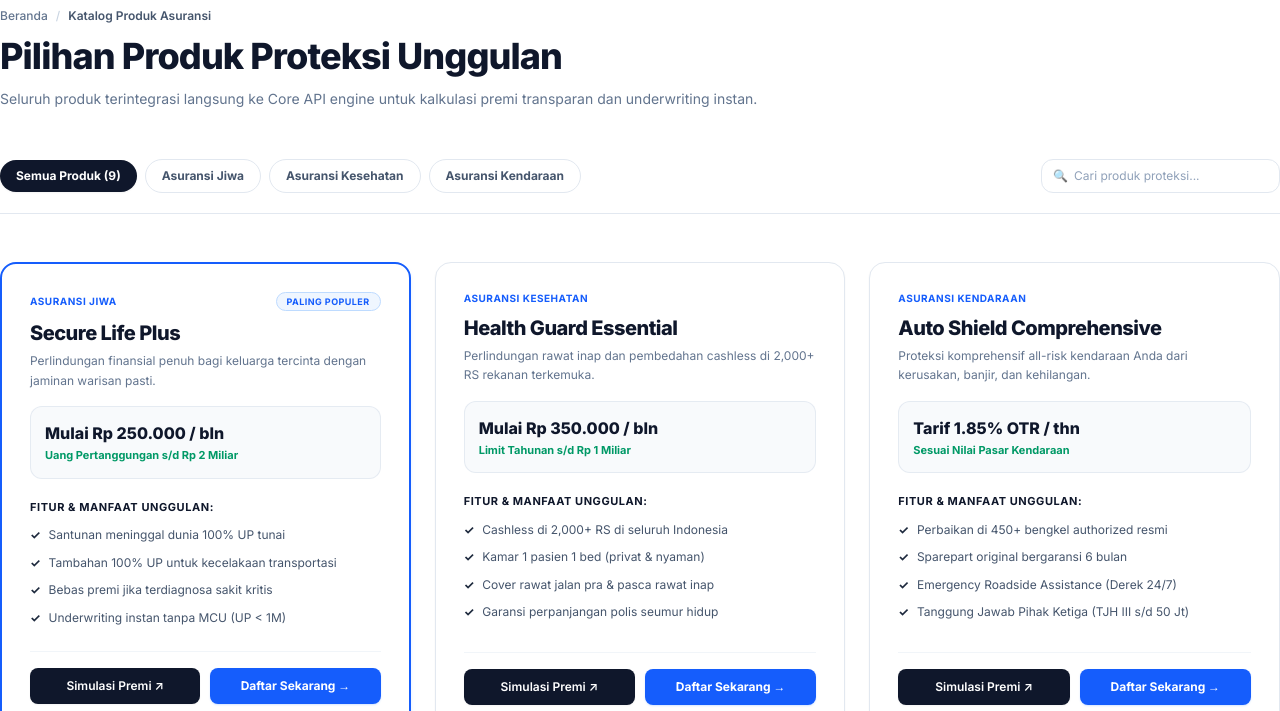
Test case: ProductsPage & ProductCatalogWorkbench › searches products with search query and handles empty search state
Type "Kendaraan" into the field named "Cari produk asuransi" at (1160, 176), box x1=1041 y1=159 x2=1279 y2=193
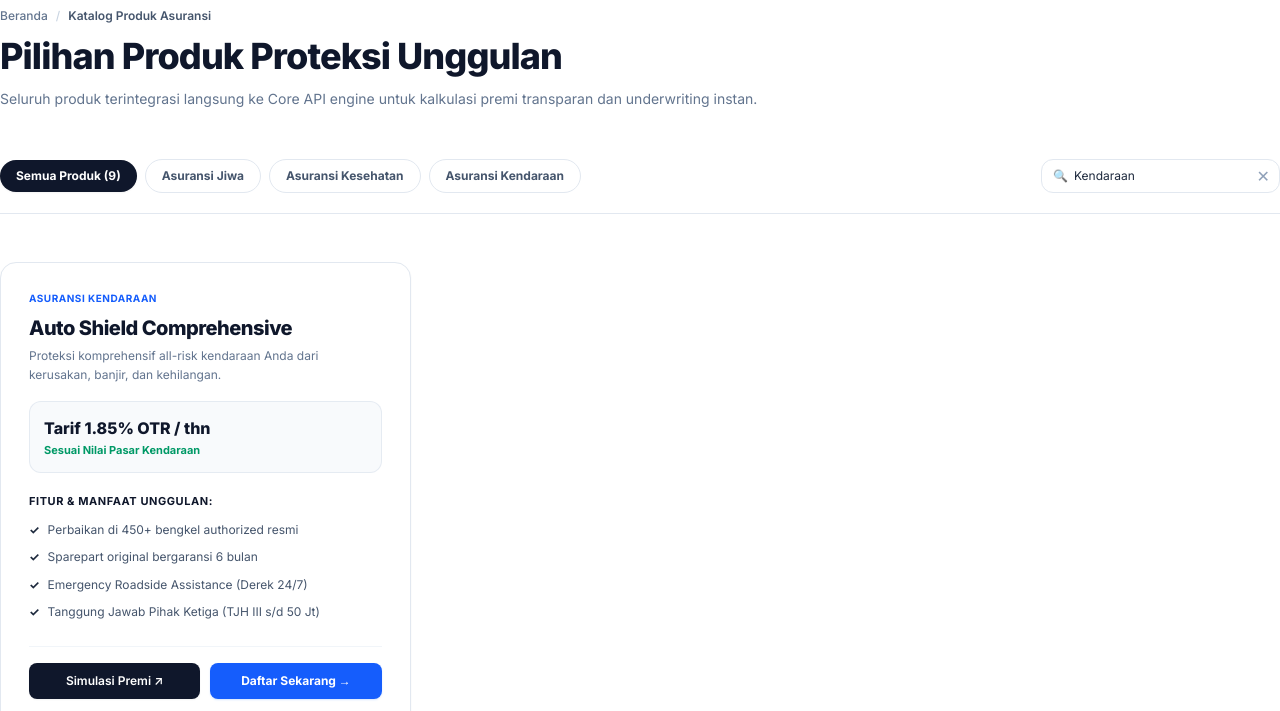
Expected: the heading "Auto Shield Comprehensive" is shown, x1=29 y1=316 x2=292 y2=340
Expected: the heading "Health Guard Essential" is gone
// Clear search with X button
Click the button named "Hapus pencarian" at (1268, 176), box x1=1257 y1=159 x2=1279 y2=193
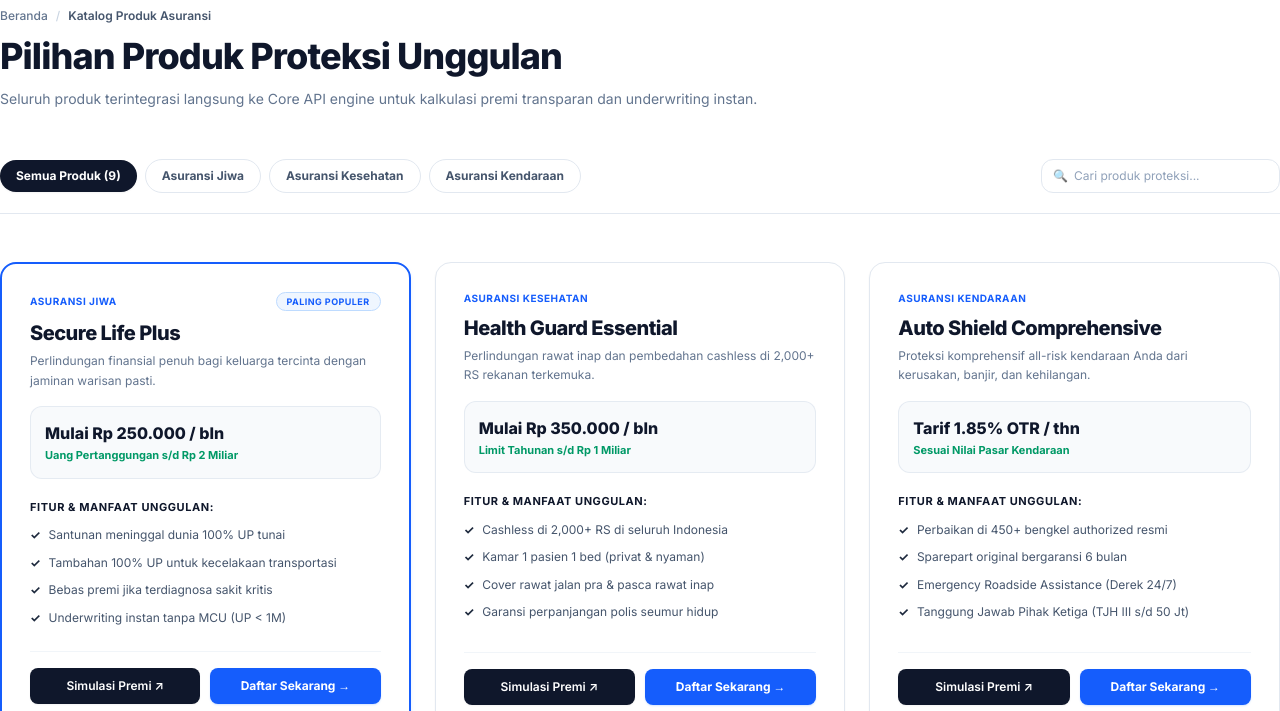
Expected: the heading "Health Guard Essential" is shown, x1=464 y1=316 x2=678 y2=340
// Search unmatched string
Type "NONEXISTENT_QUERY_XYZ" into the field named "Cari produk asuransi" at (1160, 176), box x1=1041 y1=159 x2=1279 y2=193
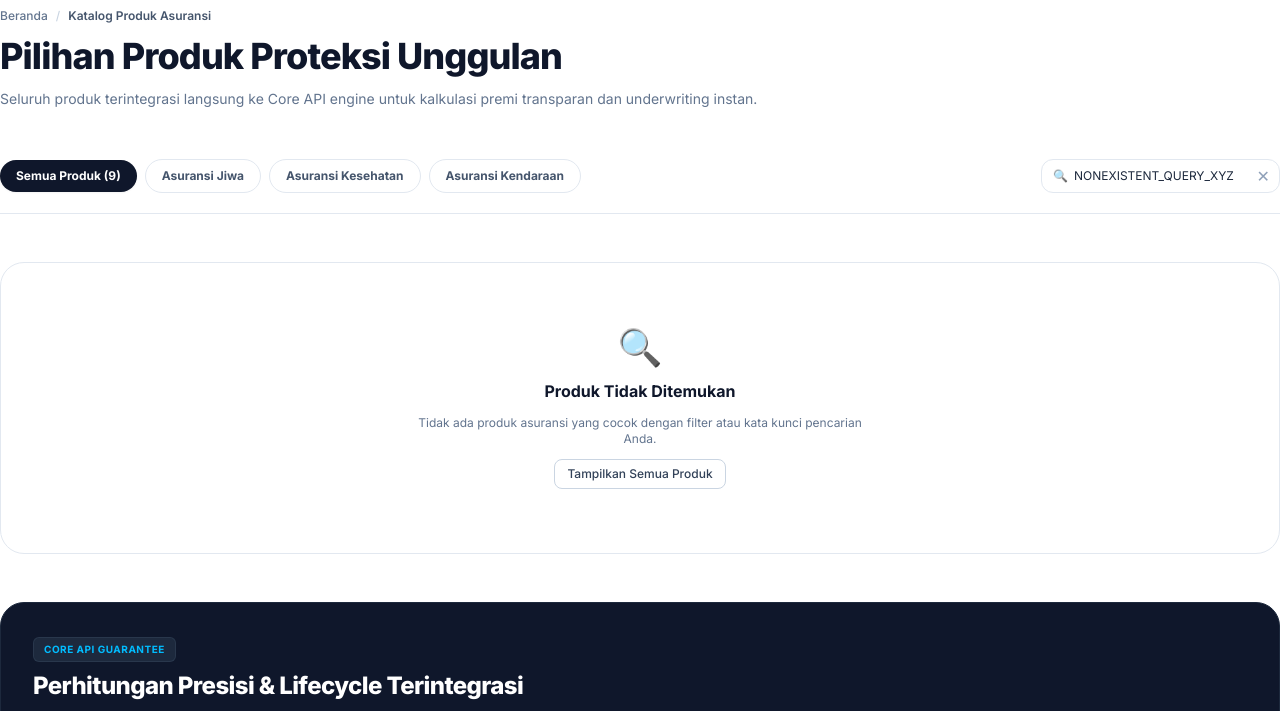
Expected: the heading "Produk Tidak Ditemukan" is shown, x1=544 y1=381 x2=736 y2=401
// Click 'Tampilkan Semua Produk'
Click the button "Tampilkan Semua Produk" at (640, 474), box x1=554 y1=459 x2=726 y2=489
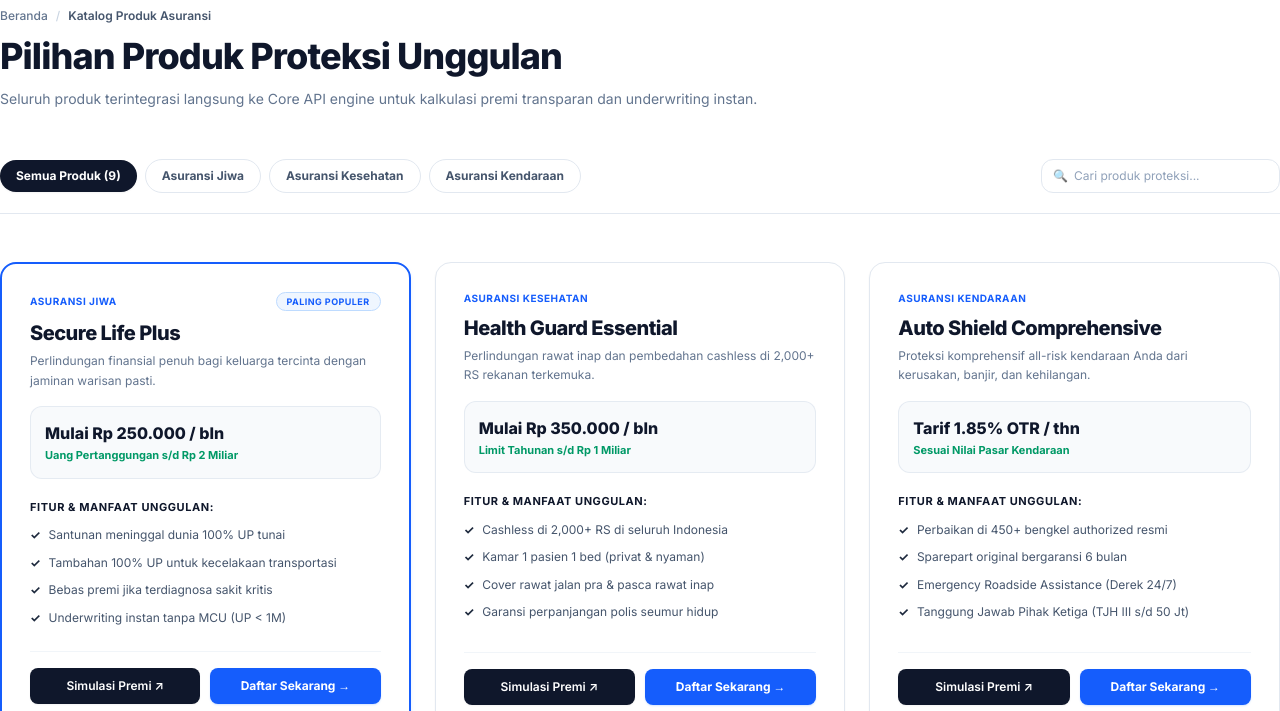
Expected: the heading "Secure Life Plus" is shown, x1=30 y1=321 x2=180 y2=345
